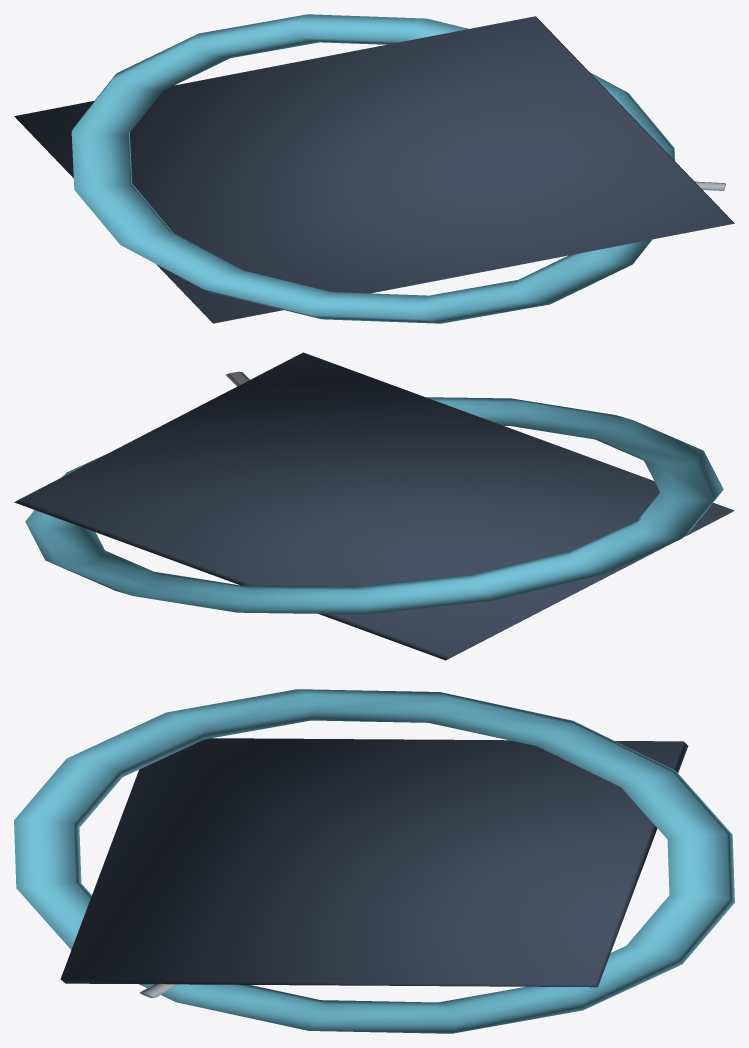
Rendered from trampoline-wreck.glb.
3 renders of one model, top to bottom at view 1: azimuth 30°, elevation 25°; view 2: azimuth 150°, elevation 25°; view 3: azimuth 270°, elevation 25°, orthographic. The views are drawn at different scales.
Parts seen in each view (by area): view 1: world; view 2: world; view 3: world.
Boxes of the visible parts, bbox=[...] form: world: bbox=[14, 14, 734, 323]; world: bbox=[14, 352, 734, 660]; world: bbox=[14, 689, 734, 1033].
Size of the model in its own units: 3.2 by 0.3 by 3.2.
